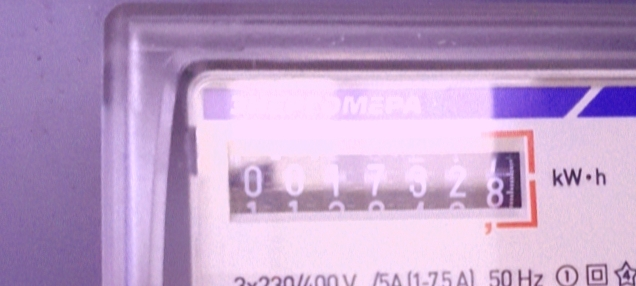0: (240, 161, 263, 198), (282, 162, 303, 196)
1: (325, 160, 340, 197)
2: (443, 163, 465, 199)
3: (404, 163, 427, 198)
7: (361, 159, 386, 198)
8: (482, 173, 502, 209)
screen: (215, 129, 540, 238)
